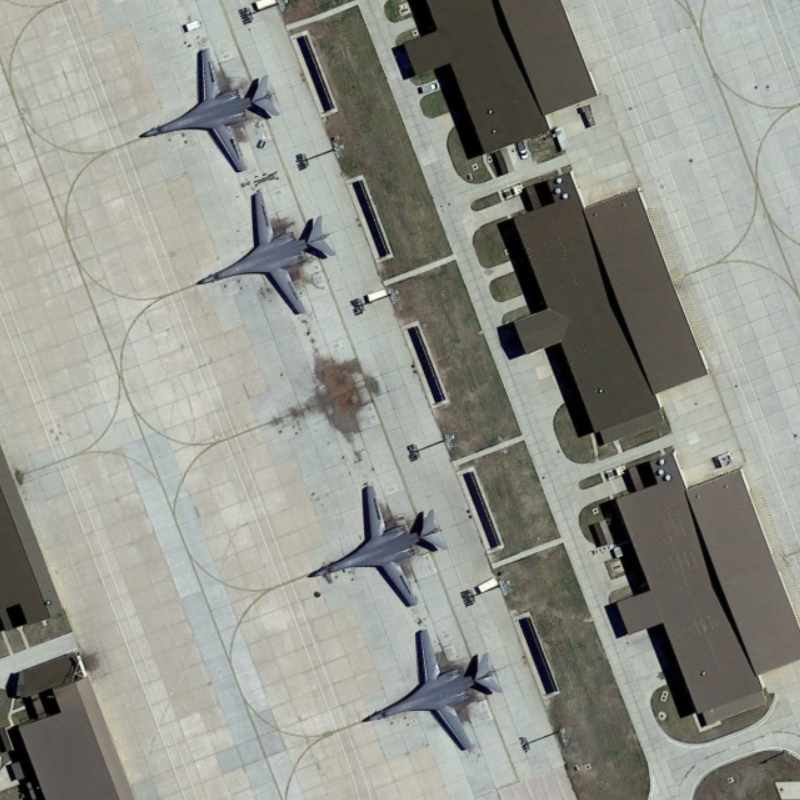A10: (194, 176, 342, 323), (360, 618, 511, 761), (304, 475, 450, 608), (137, 41, 276, 177)
